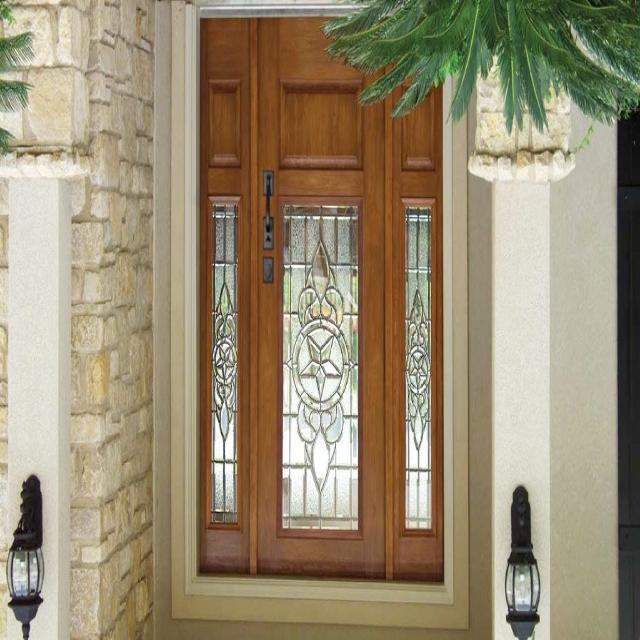door: (198, 14, 444, 585)
